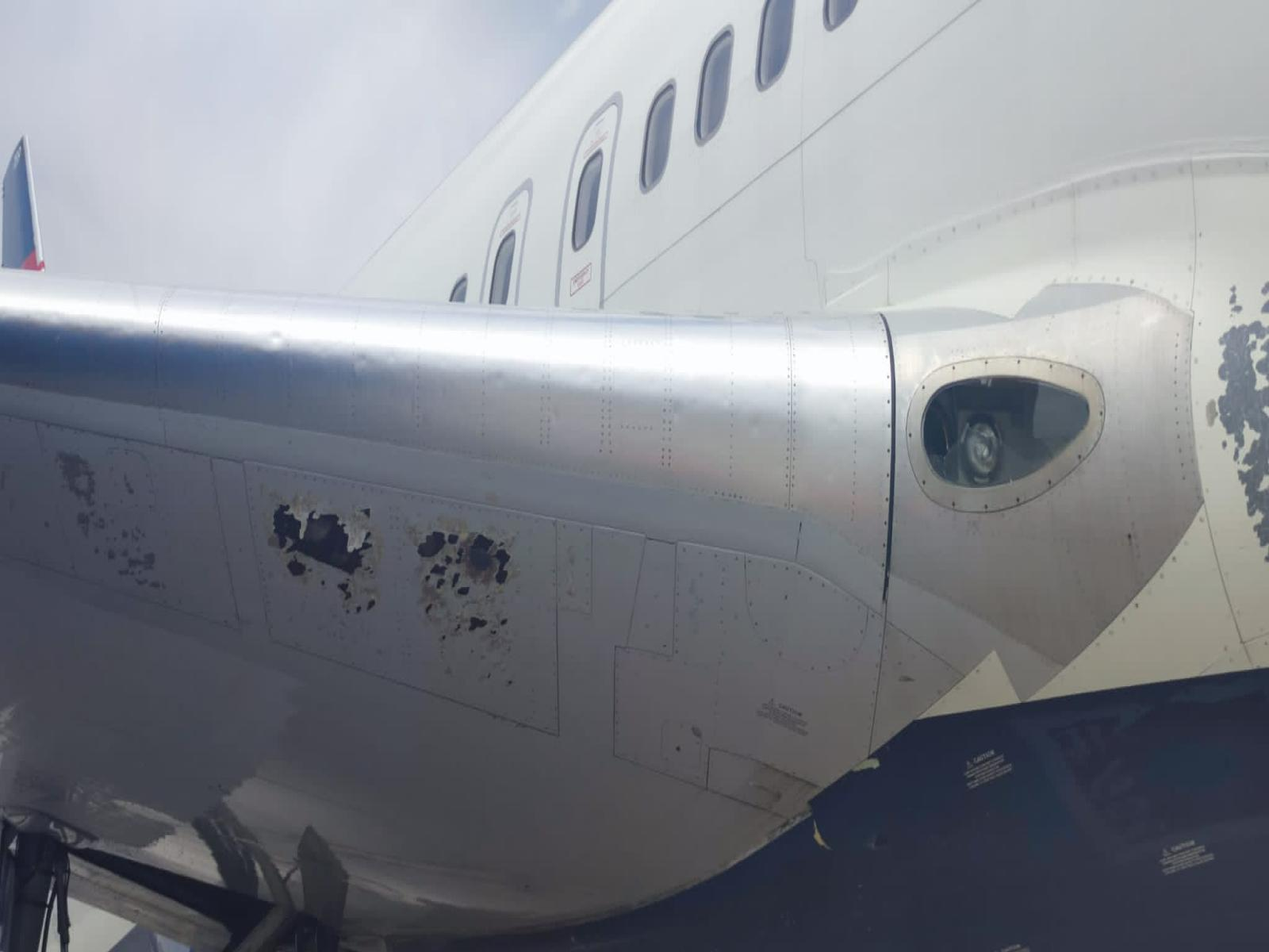Wing_damage: (1216, 282, 1268, 551), (270, 503, 374, 611), (417, 528, 511, 638), (57, 452, 94, 503), (278, 504, 305, 572), (303, 514, 336, 533)
